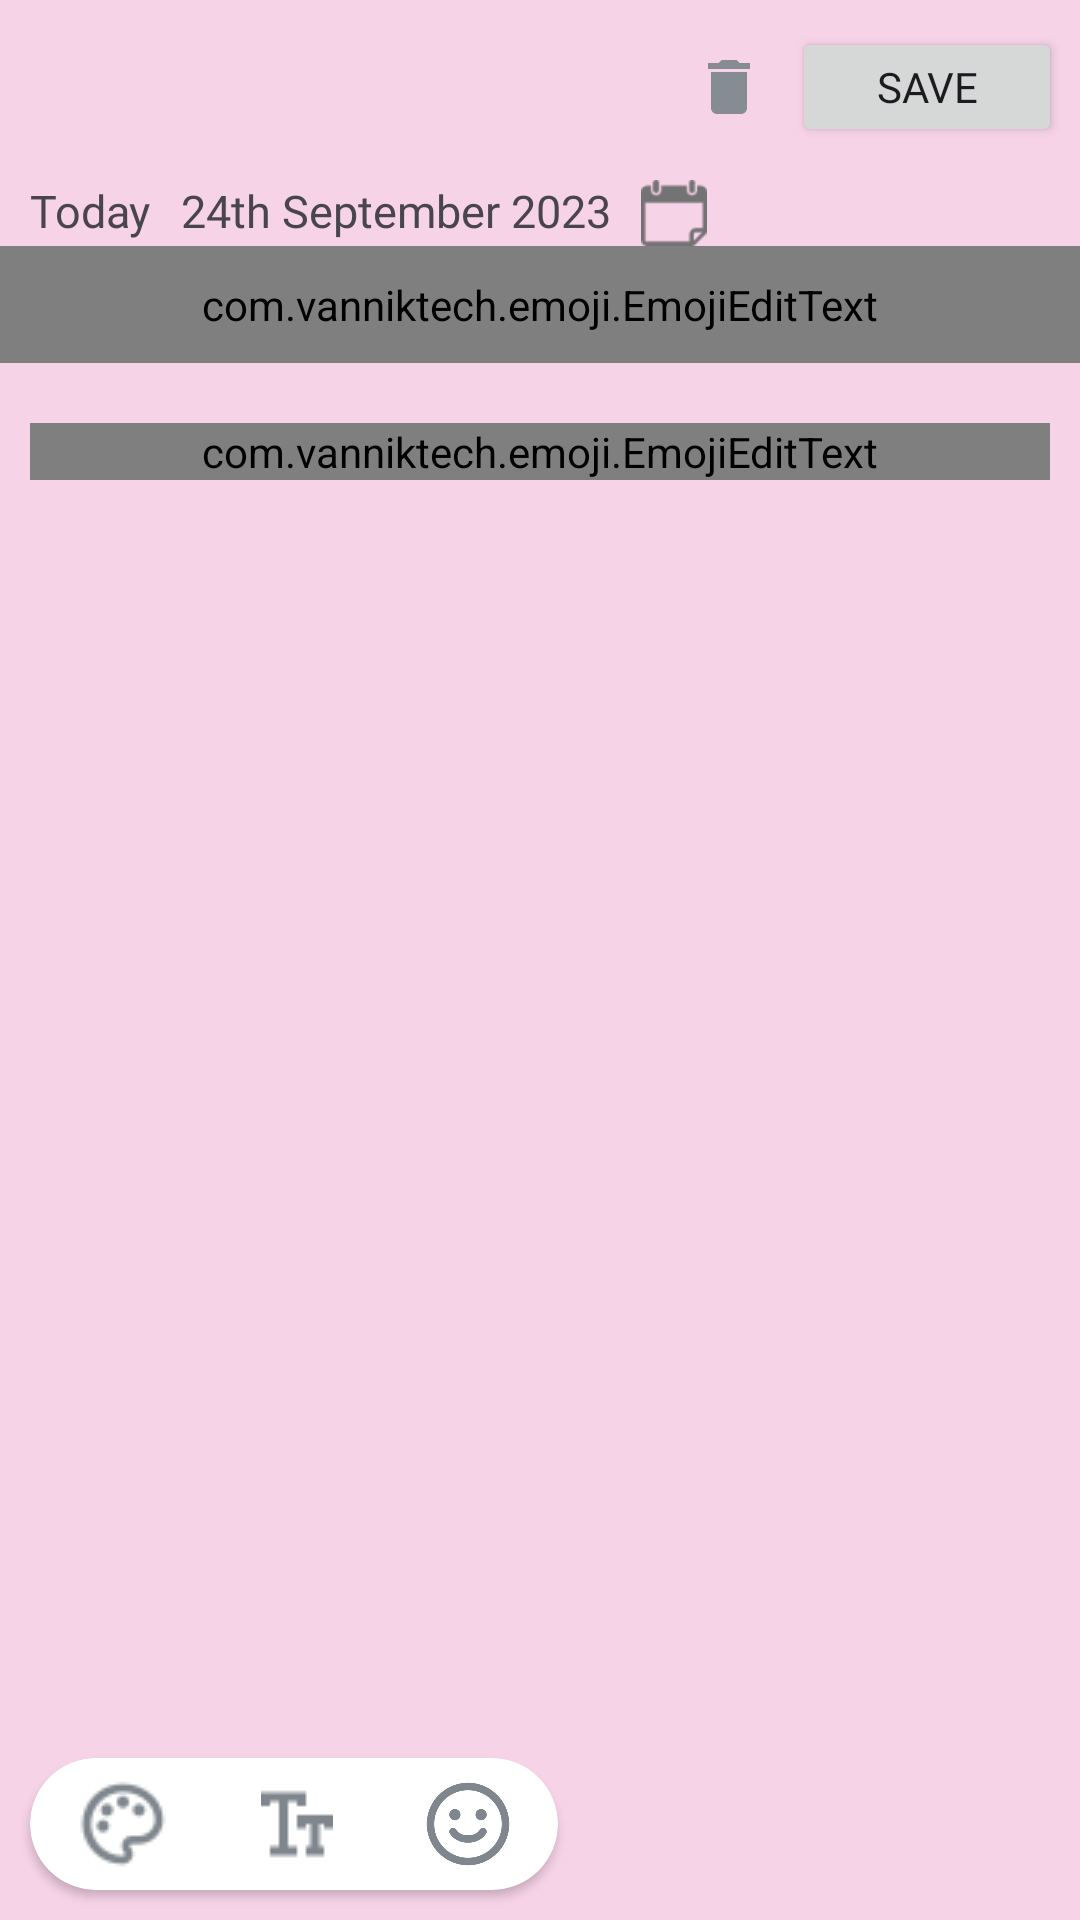

Icon click points for this 1080px x 1920px phone screenshot, format (x=x, y=y):
calender view: (x=674, y=213)
emoji: (x=468, y=1824)
palette: (x=122, y=1824)
